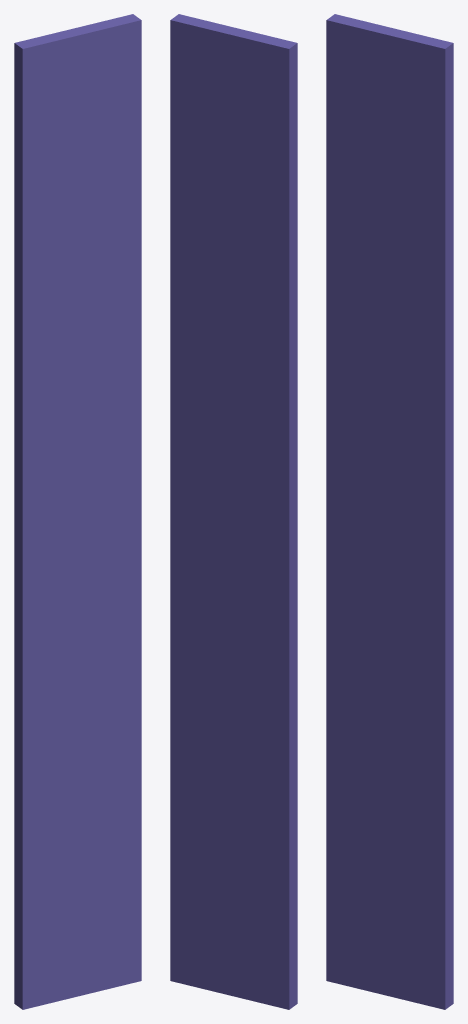
Rendered from Sink_Wall.fbx.
3 renders of one model, left to right at view 1: azimuth 30°, elevation 25°; view 2: azimuth 150°, elevation 25°; view 3: azimuth 330°, elevation 25°, orthographic.
Parts seen in each view (by area): view 1: SkinkWall; view 2: SkinkWall; view 3: SkinkWall.
Part boxes in pixels (x1,y1,x2,y2): SkinkWall: [14, 14, 141, 1009]; SkinkWall: [170, 14, 297, 1009]; SkinkWall: [326, 14, 453, 1009].
Bounding box in the file's own units: 1233 × 9540 × 150.
